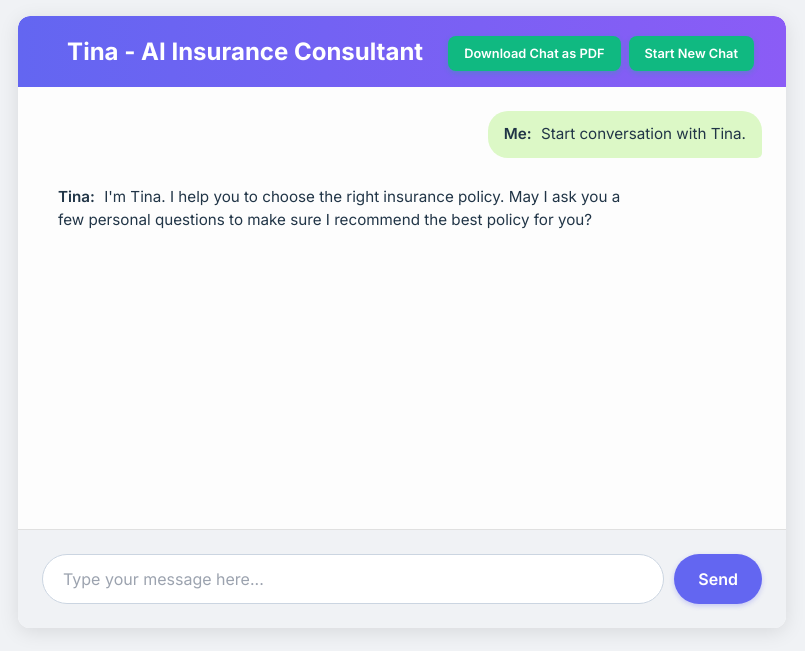
Test case: App Component › allows user to send message and AI responds
Expected: the text "I'm Tina." is shown, [58, 187, 620, 229]
Type "Yes, I agree." into the field with placeholder "Type your message here...".
click(353, 579); type("Yes, I agree.")  # box [42, 554, 664, 604]
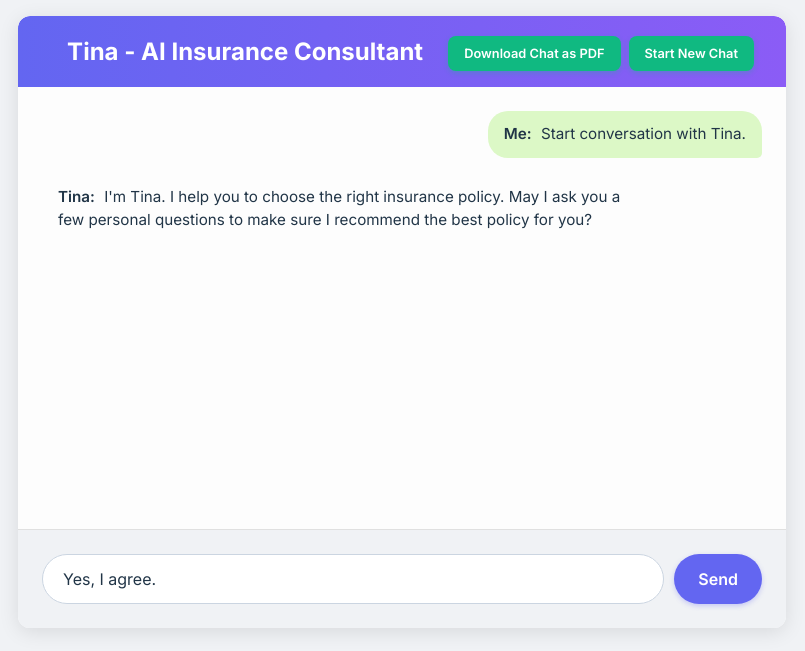
Click the button "Send".
click(718, 579)  # box [674, 554, 762, 604]
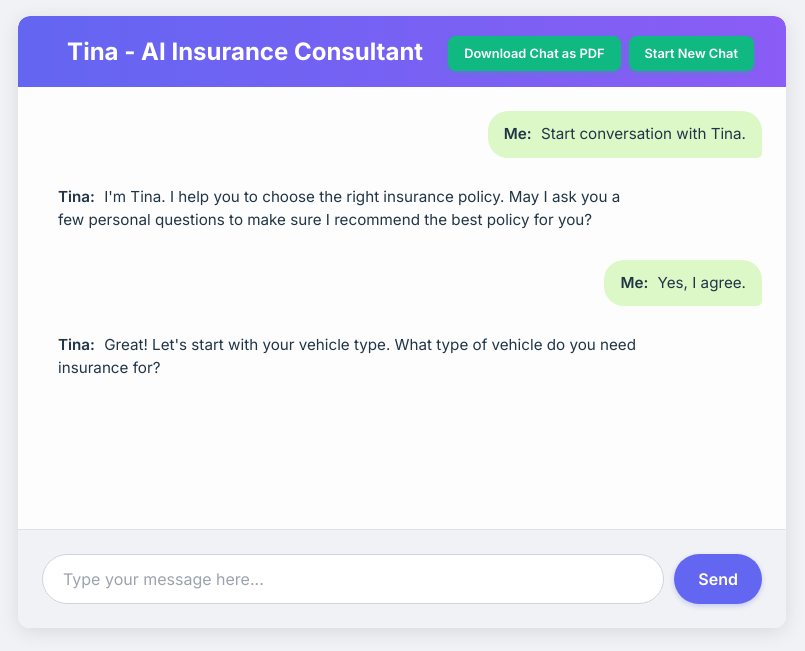
Result: the text "What type of vehicle do you need insurance for?" is shown at [58, 335, 636, 377]
Result: the field with placeholder "Type your message here..." is empty at [42, 554, 664, 604]
